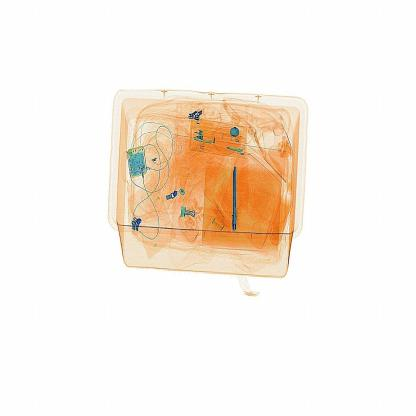pliers: (226, 161, 243, 237)
